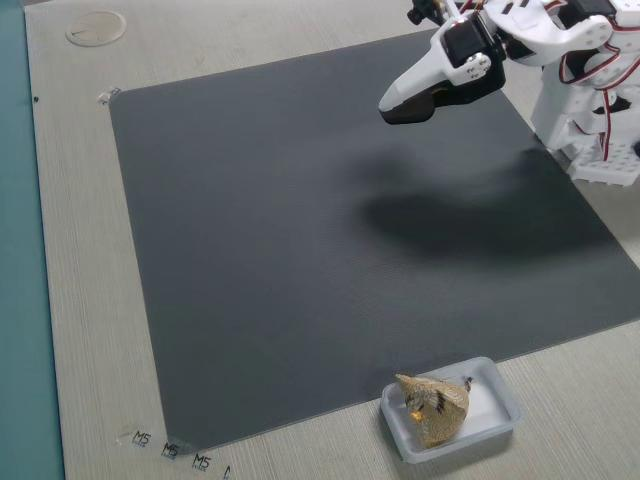gripper: (376, 1, 500, 129)
